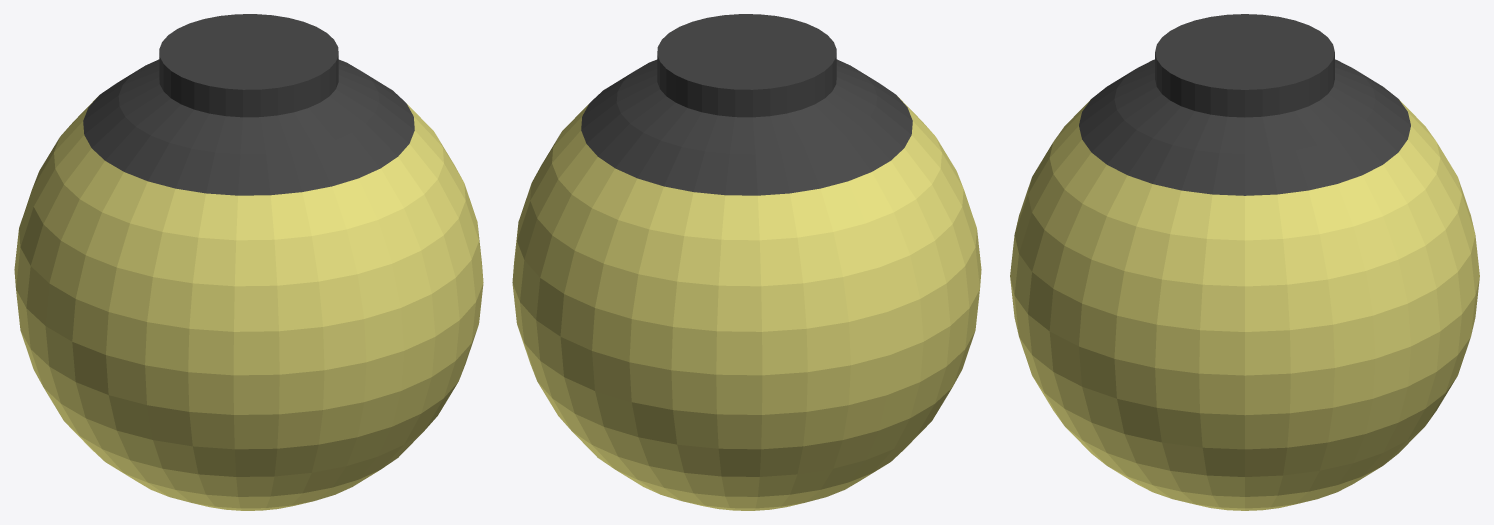
The model's file is bulb.glb.
3 views of the same model, side by side, from view 1: azimuth 30°, elevation 25°; view 2: azimuth 150°, elevation 25°; view 3: azimuth 270°, elevation 25° (orthographic).
Parts seen in each view (by area): view 1: Sphere; view 2: Sphere; view 3: Sphere.
Boxes of the visible parts, x1,y1,x2,y2 form: Sphere: (14,14,483,510); Sphere: (512,14,981,510); Sphere: (1010,14,1479,510).
Bounding box in the file's own units: 1 × 1.03 × 1.
